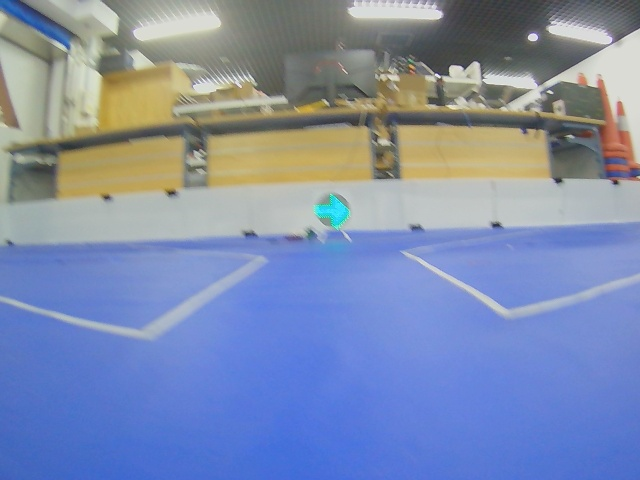right_green: (314, 193, 351, 230)
